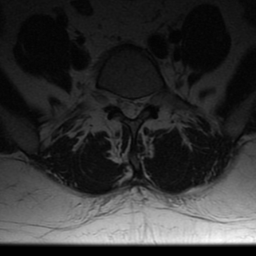CCS_normal: (127, 89, 136, 127)
LFS_normal: (144, 82, 152, 114)
LLS_normal: (136, 87, 144, 122)
RFS_normal: (109, 80, 119, 115)
RLS_normal: (118, 87, 128, 122)
